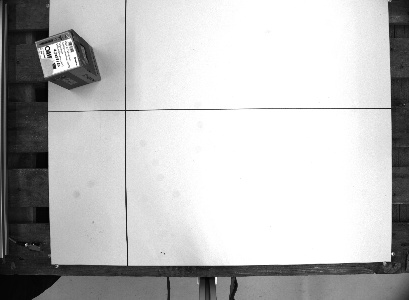b4: (32, 28, 103, 92)
